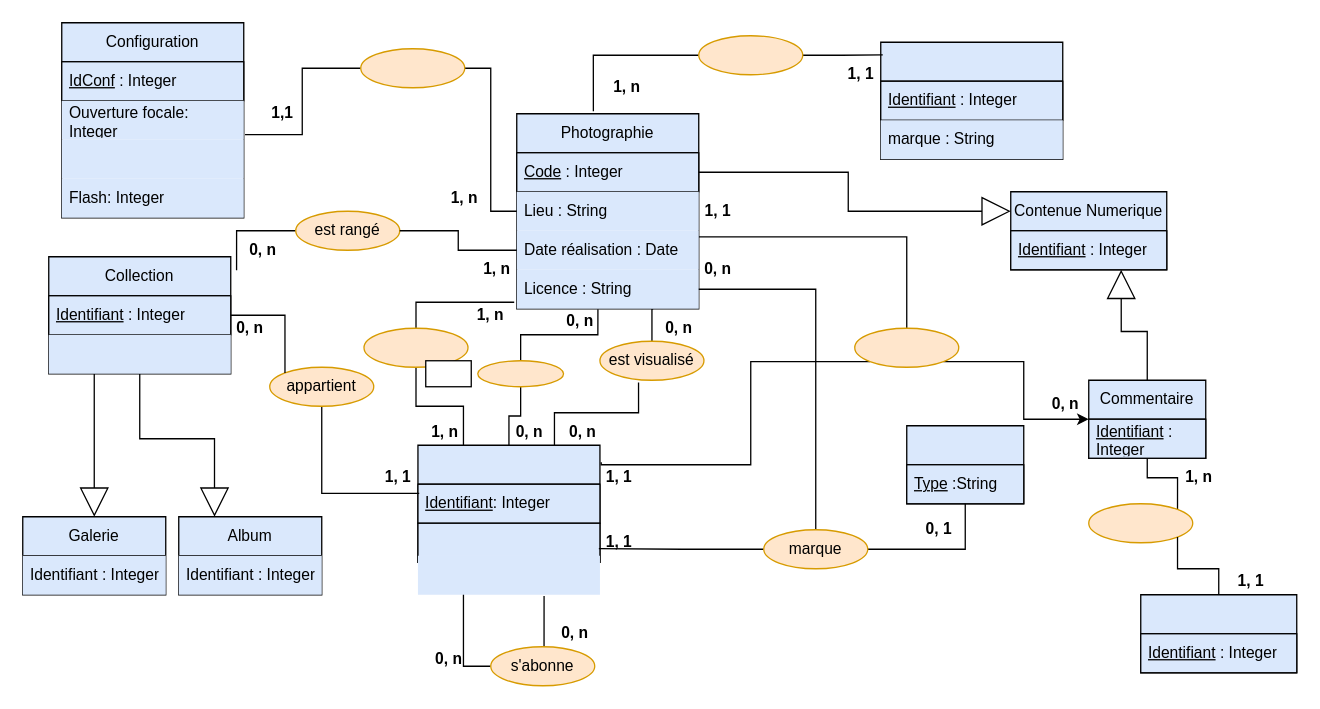
The diagram is 1320 pixels wide and 709 high, and some of its shapes have lost their labels. Each missing label, with the box of its shape:
Appareil: (879, 41, 1063, 159)
Balise: (905, 424, 1024, 504)
constitue: (1087, 502, 1193, 543)
date: (424, 359, 471, 387)
Discussion: (1139, 593, 1297, 673)
effectue: (853, 327, 959, 367)
est aimé: (476, 359, 564, 387)
est prise: (697, 34, 803, 75)
est publié: (363, 327, 468, 367)
Nom : String: (48, 334, 230, 373)
Nom :String: (417, 522, 600, 562)
possède: (359, 47, 465, 88)
Prénom :String: (417, 555, 599, 594)
Temps exposition: String: (61, 139, 243, 178)
Utlisateur: (417, 444, 600, 562)
